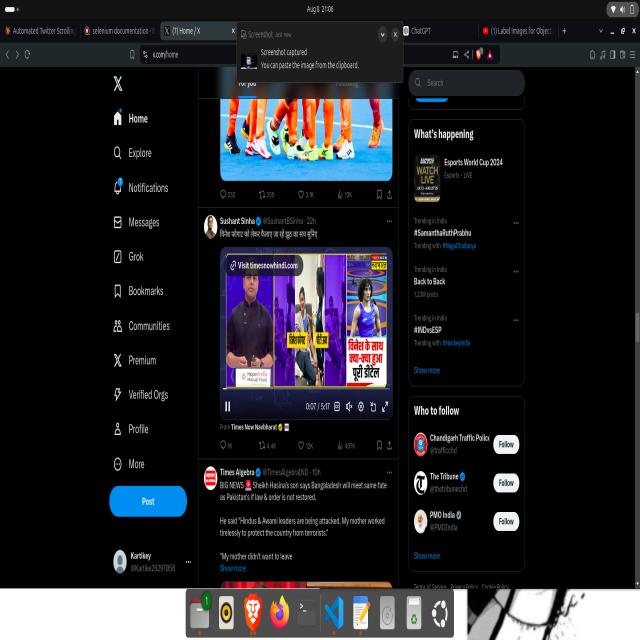Tweet-Comment_Box-: (194, 203, 402, 465)
